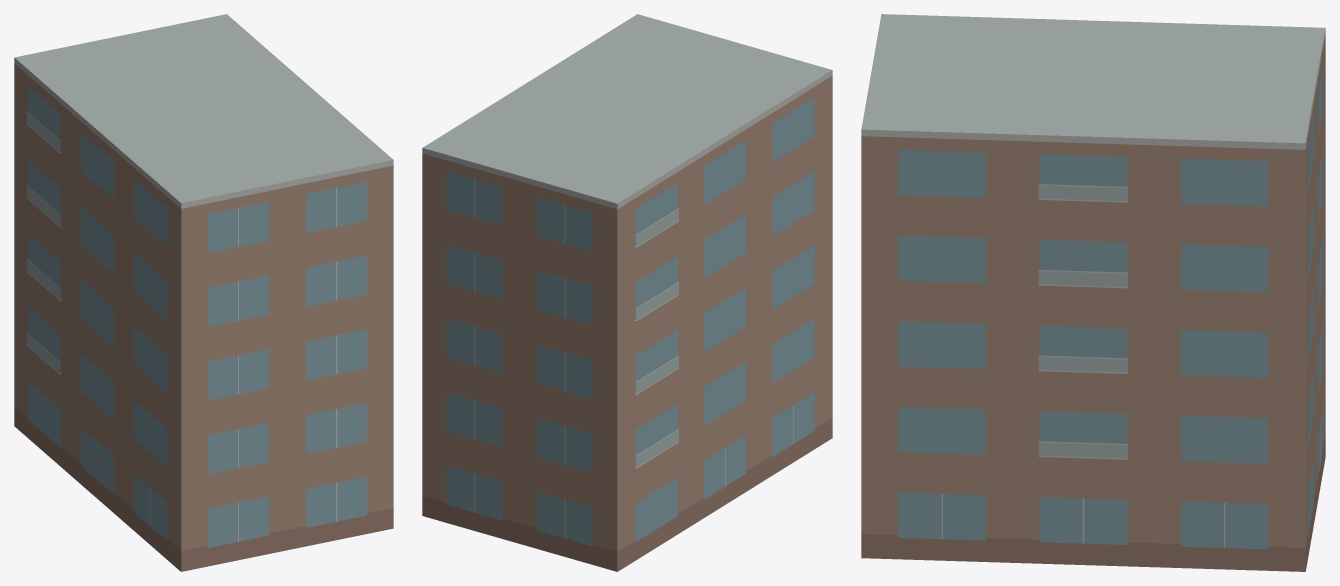
The model's file is survey-upis-32980791.glb.
3 renders of one model, left to right at view 1: azimuth 30°, elevation 25°; view 2: azimuth 150°, elevation 25°; view 3: azimuth 270°, elevation 25°, orthographic. The views are drawn at different scales.
Parts seen in each view (by area): view 1: survey-upis-32980791.tmp; view 2: survey-upis-32980791.tmp; view 3: survey-upis-32980791.tmp.
Boxes of the visible parts, x1,y1,x2,y2 form: survey-upis-32980791.tmp: (14, 14, 393, 571); survey-upis-32980791.tmp: (422, 14, 832, 571); survey-upis-32980791.tmp: (861, 14, 1325, 571).
Size of the model in its own units: 10.37 by 16 by 15.73.
